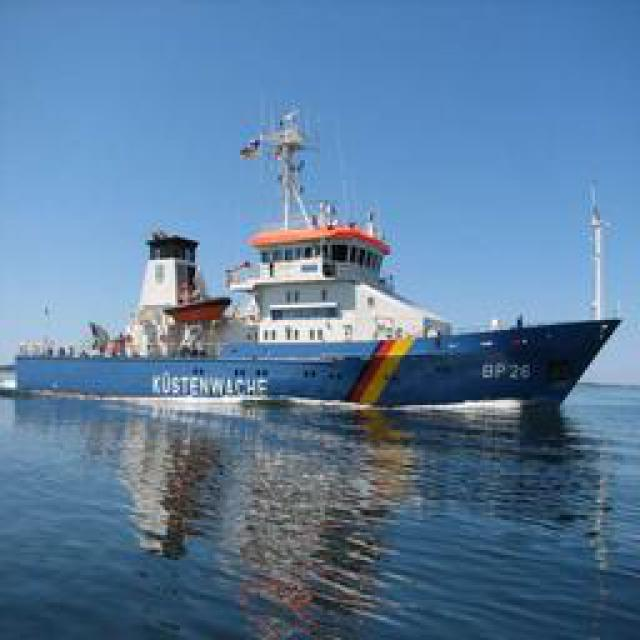Ship: (21, 97, 609, 407)
